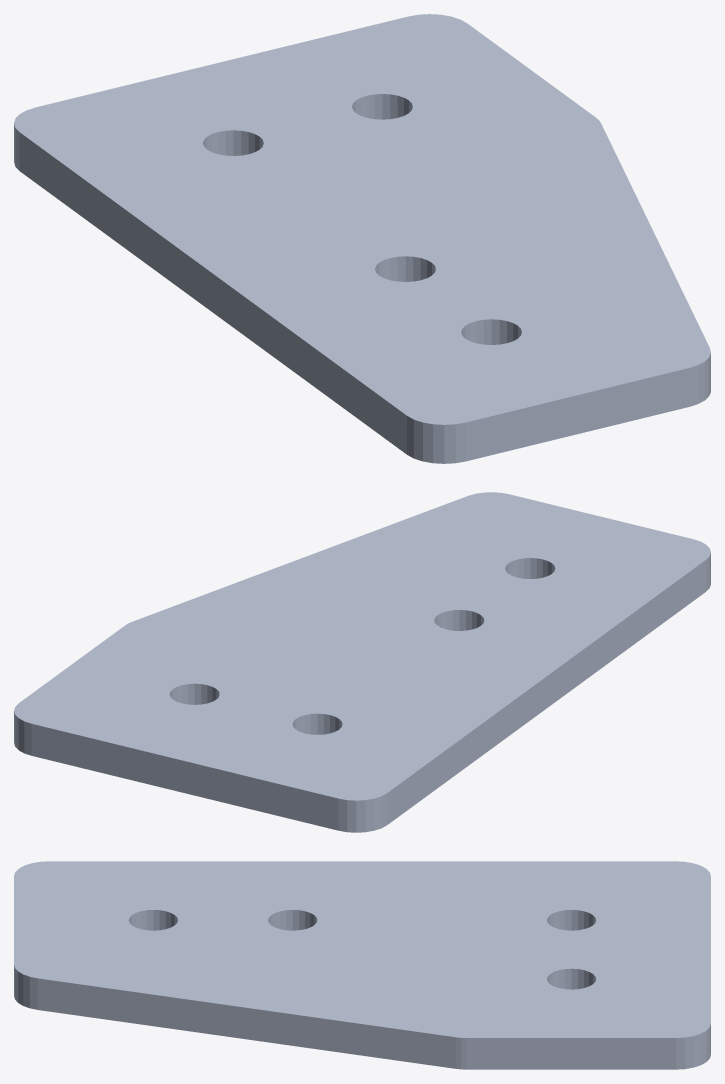
The model's file is body__x1_1x1_Gusset_Plate__x1_1x1_Gusset_Plate.obj.
3 views of the same model, one above another, from view 1: azimuth 30°, elevation 25°; view 2: azimuth 150°, elevation 25°; view 3: azimuth 270°, elevation 25° (orthographic). The views are drawn at different scales.
Bounding box in the file's own units: 0.0381 × 0.00317 × 0.0635.
